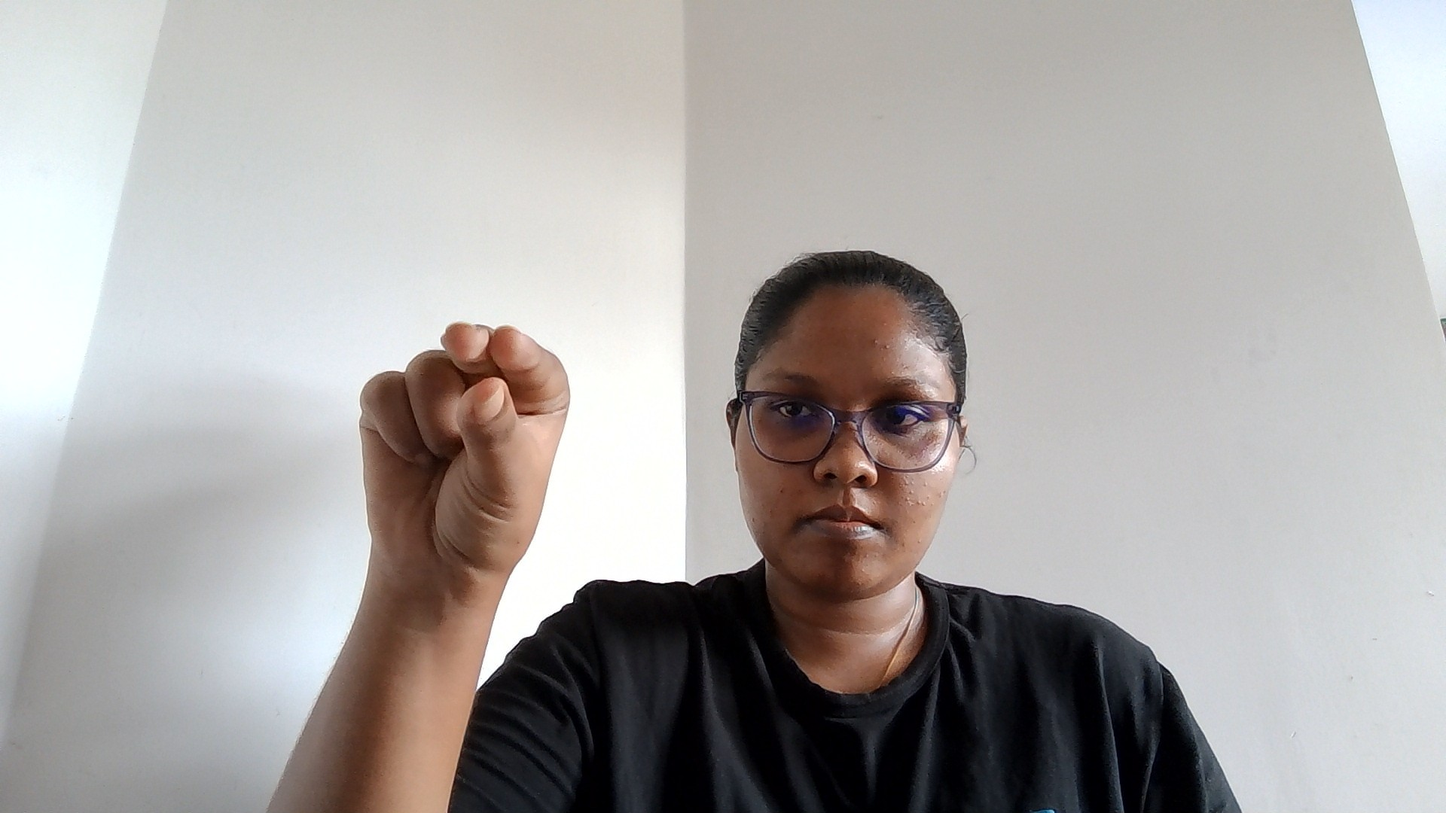No: (307, 230, 595, 629)
